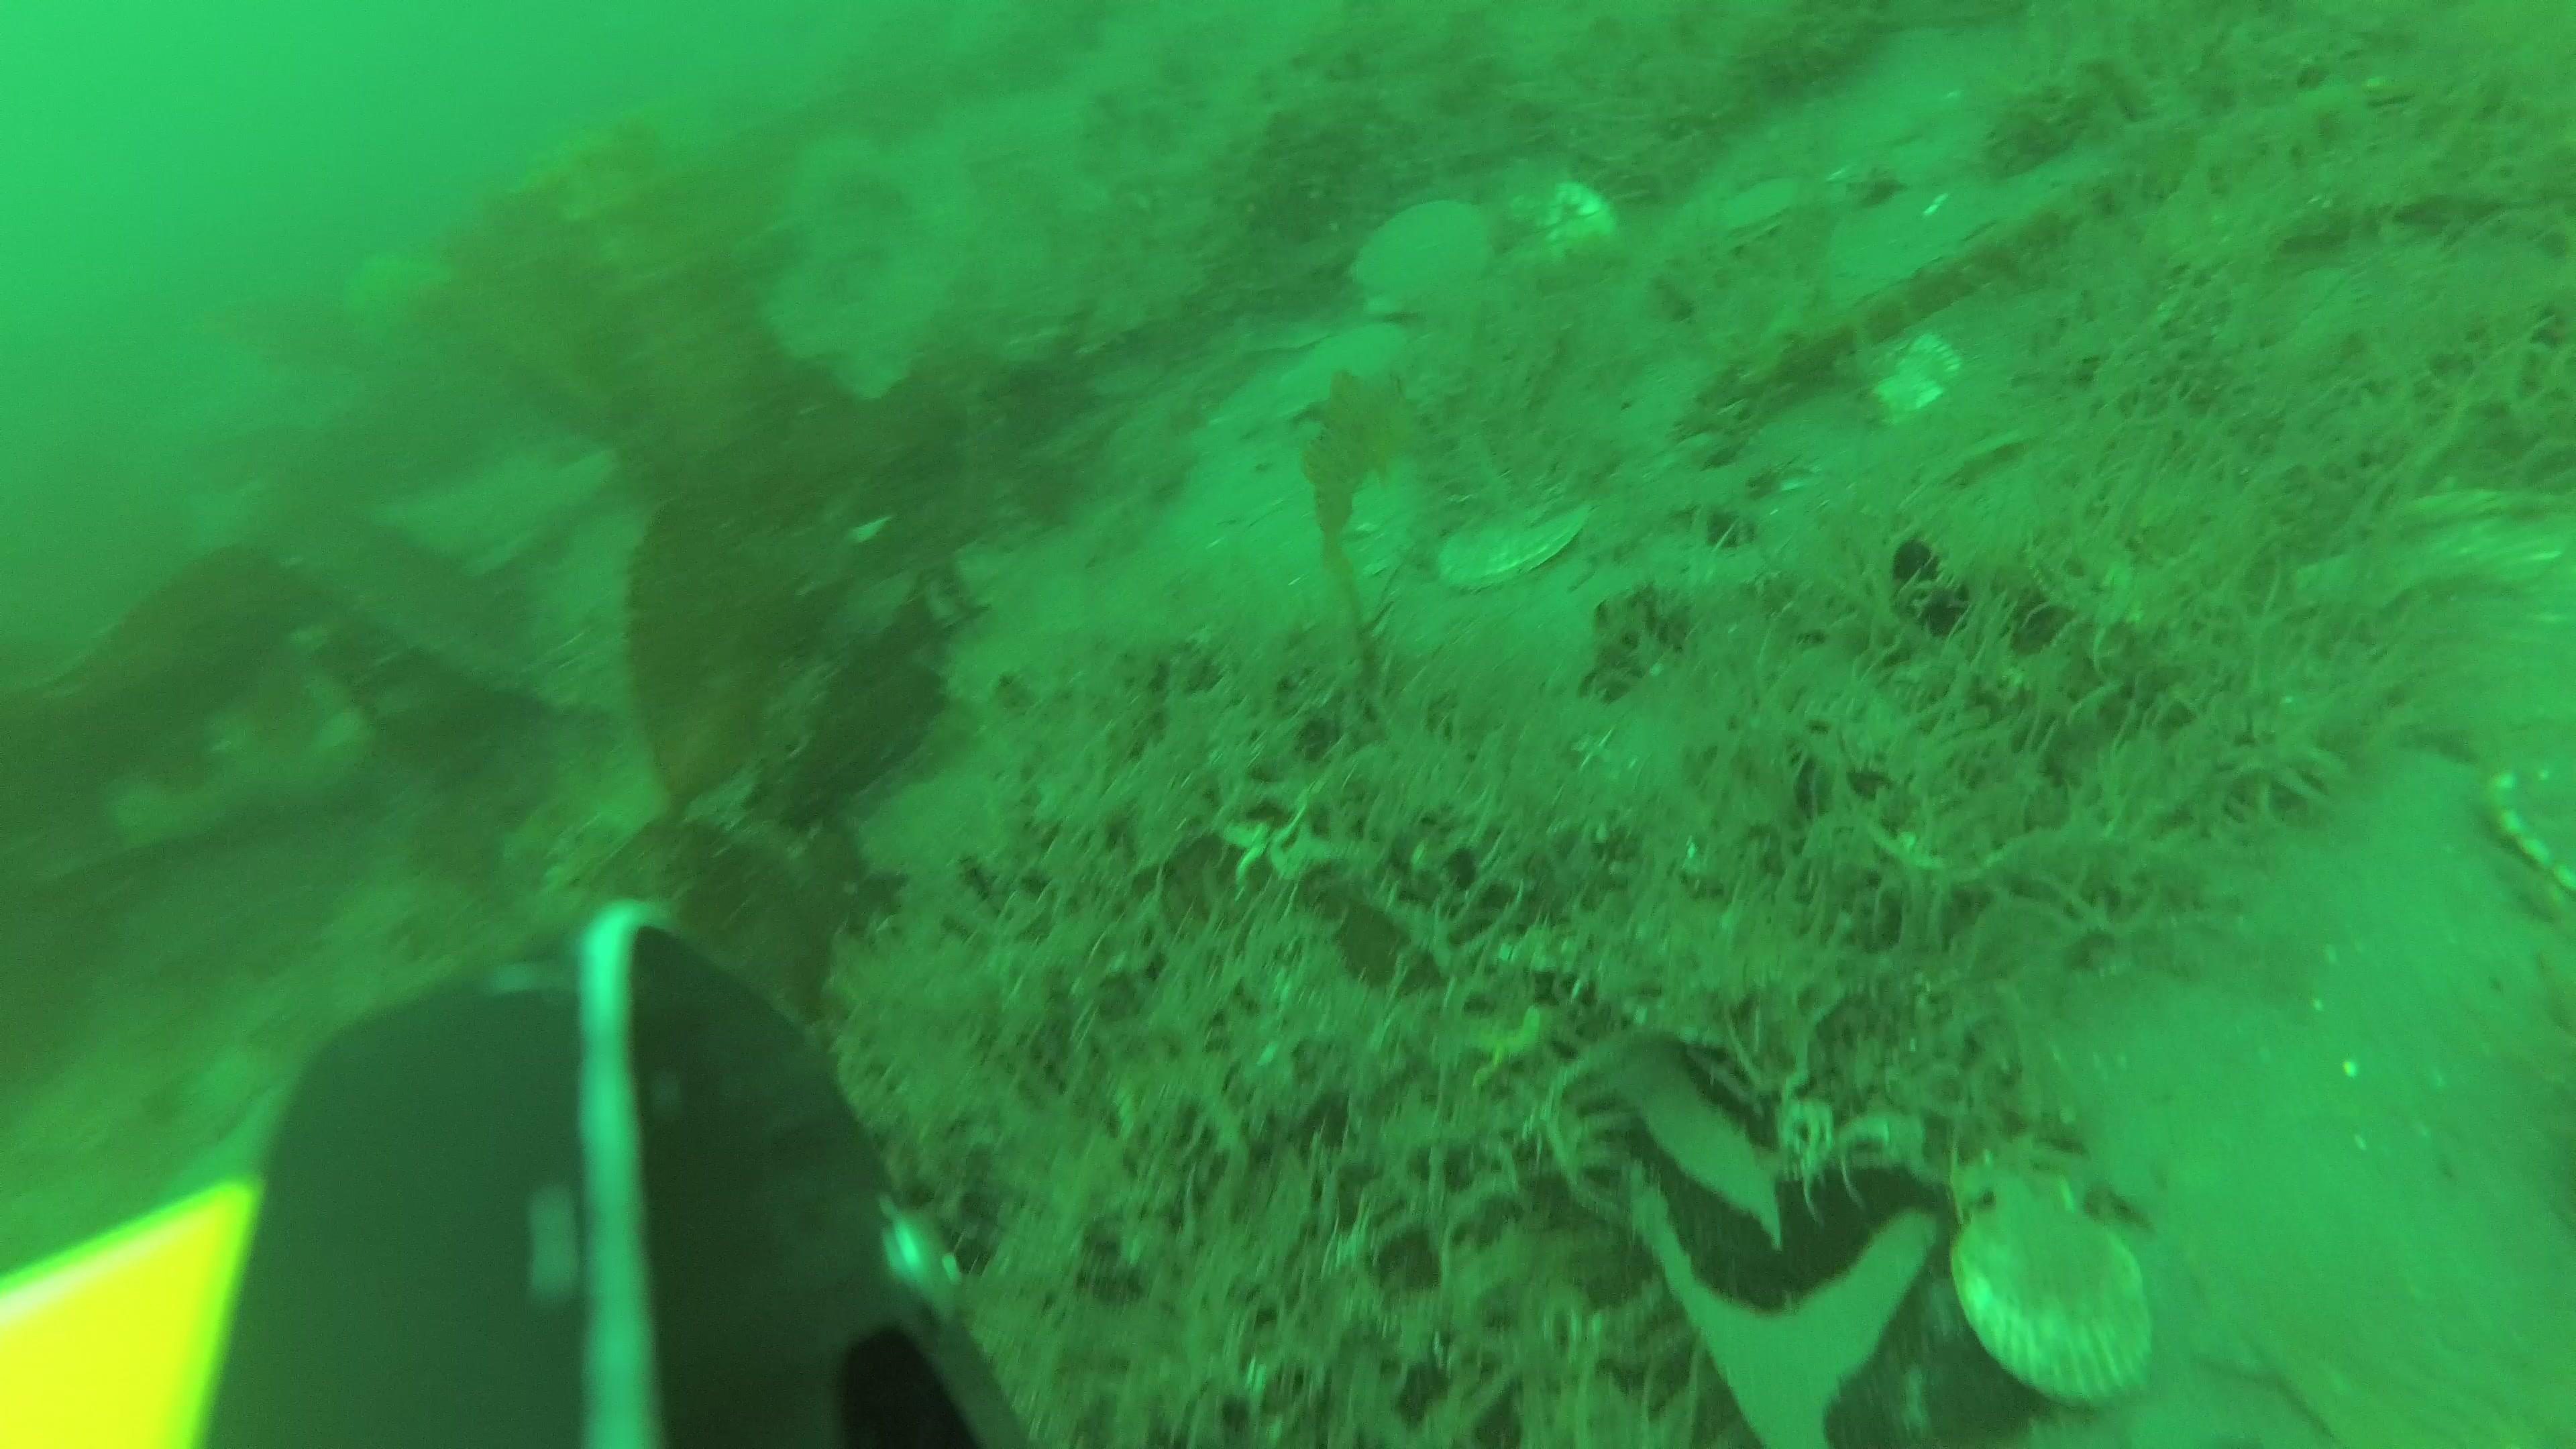scallop: (1955, 1178, 2141, 1396), (1346, 191, 1495, 318), (1440, 499, 1587, 589), (1288, 322, 1414, 412), (1718, 166, 1826, 249), (1867, 326, 1960, 414), (1545, 186, 1619, 265)
